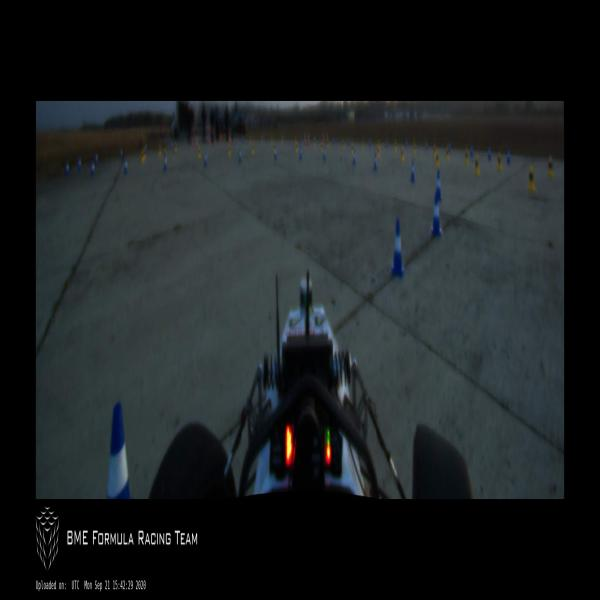blue_cone: (107, 401, 133, 499), (390, 217, 405, 278), (430, 190, 444, 238), (434, 170, 442, 199), (410, 158, 416, 183), (65, 160, 70, 176), (124, 158, 128, 174), (204, 152, 208, 167), (238, 148, 242, 162), (91, 162, 95, 176), (163, 157, 167, 170), (374, 153, 377, 169), (507, 148, 510, 164), (353, 150, 356, 164), (323, 146, 326, 160), (274, 146, 277, 160), (299, 146, 302, 159), (78, 157, 81, 170), (488, 148, 491, 161), (470, 144, 473, 157)
yellow_cone: (528, 164, 535, 192), (548, 156, 554, 176), (474, 155, 479, 177), (498, 151, 502, 171), (435, 152, 440, 167), (464, 148, 468, 164), (197, 147, 201, 159), (401, 148, 404, 161), (377, 146, 380, 158), (394, 141, 397, 152), (433, 145, 436, 156), (251, 144, 254, 155), (446, 145, 448, 161), (228, 144, 230, 157), (351, 142, 353, 154), (321, 141, 323, 152)
